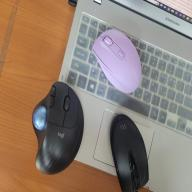mouse: (31, 80, 85, 178), (91, 28, 144, 94), (108, 112, 149, 192)
